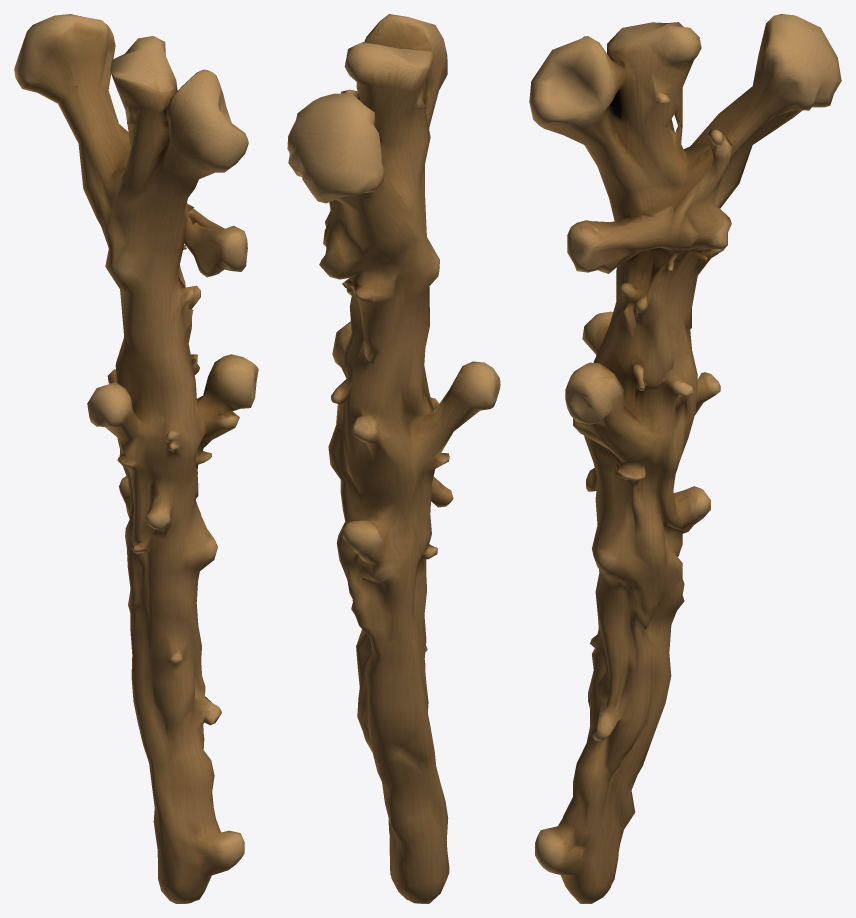
The model's file is ratbone_wand.glb.
The picture shows the model from 3 angles, left to right: view 1: azimuth 30°, elevation 25°; view 2: azimuth 150°, elevation 25°; view 3: azimuth 270°, elevation 25°; orthographic projection. The views are drawn at different scales.
Parts seen in each view (by area): view 1: base_model_path; view 2: base_model_path; view 3: base_model_path.
Boxes of the visible parts, <box> form: base_model_path: <box>14,14,258,903</box>; base_model_path: <box>287,14,500,903</box>; base_model_path: <box>529,14,841,903</box>.
Size of the model in its own units: 0.1976 by 0.9997 by 0.3228.
Materials: 1 (1 with a texture image).
